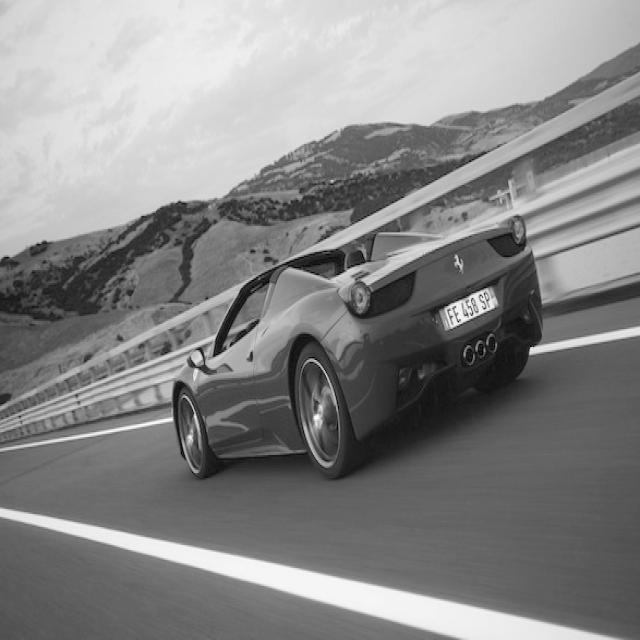car: (171, 211, 543, 480)
plat_license: (438, 283, 499, 331)
